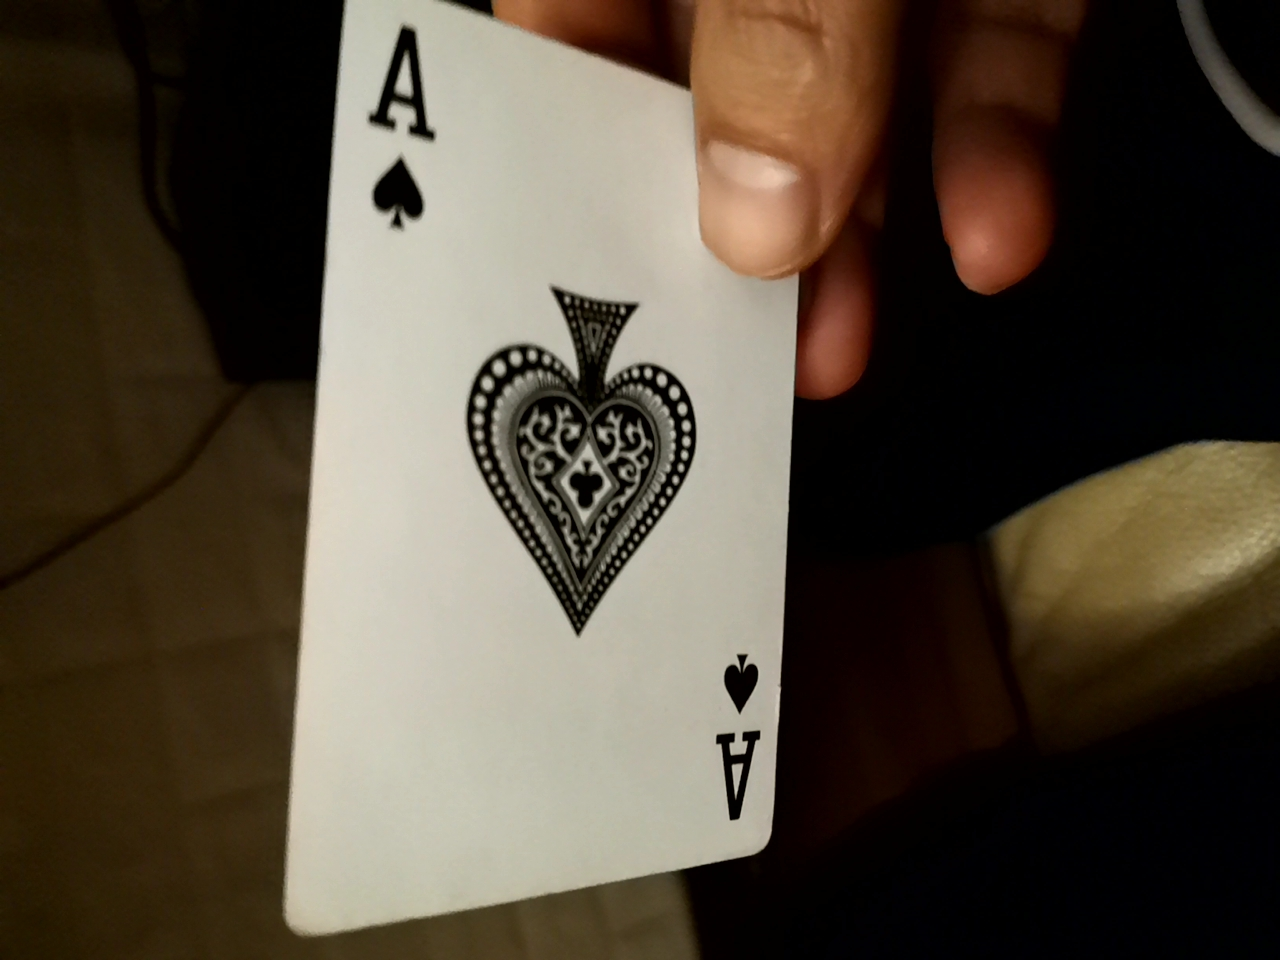ht a: (290, 23, 827, 903)
